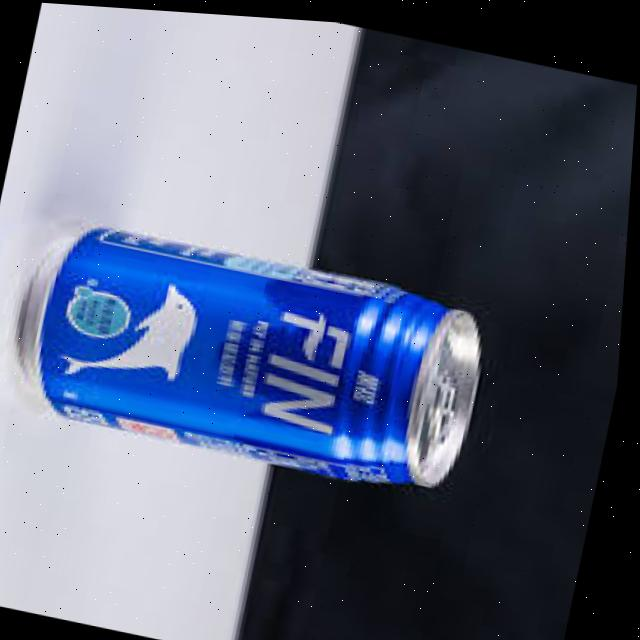Dry: (0, 203, 509, 502)
